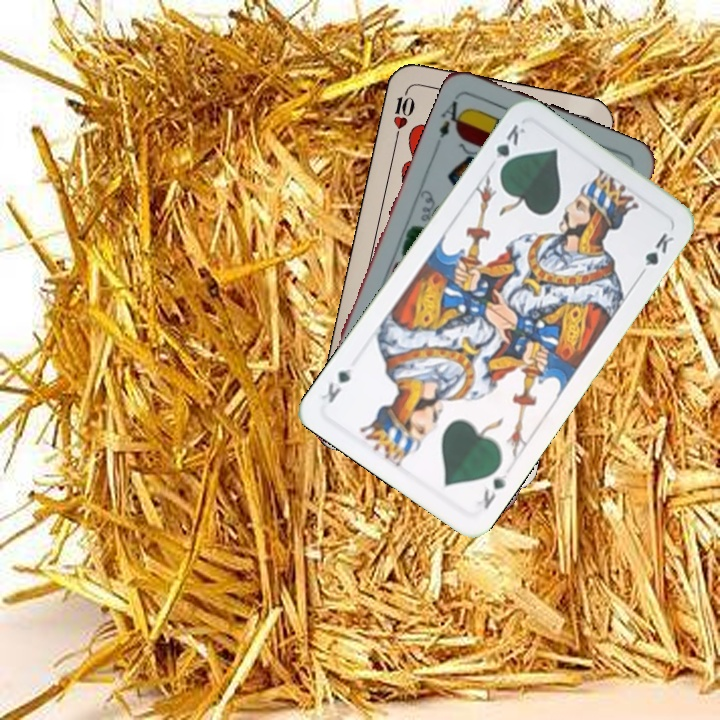EA: (435, 91, 469, 141)
GK: (491, 119, 528, 175), (479, 470, 510, 512)
H10: (389, 83, 418, 142)
